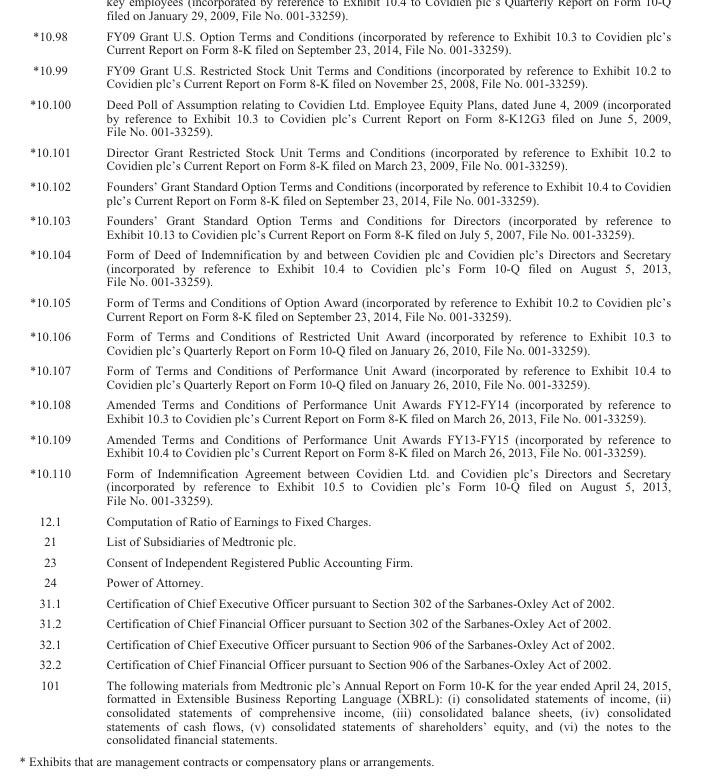table: (28, 28, 670, 745)
table column: (87, 28, 670, 745), (28, 28, 87, 745)
table row: (28, 674, 670, 745), (28, 93, 670, 141), (28, 243, 670, 291), (28, 462, 670, 510), (28, 359, 670, 394), (28, 59, 670, 93), (28, 141, 670, 175), (28, 175, 670, 209), (28, 209, 670, 243), (28, 291, 670, 325), (28, 325, 670, 359), (28, 394, 670, 428), (28, 428, 670, 462), (28, 28, 670, 59), (28, 530, 670, 551), (28, 571, 670, 592), (28, 612, 670, 633), (28, 653, 670, 674), (28, 510, 670, 530), (28, 551, 670, 571), (28, 592, 670, 612), (28, 633, 670, 653)
